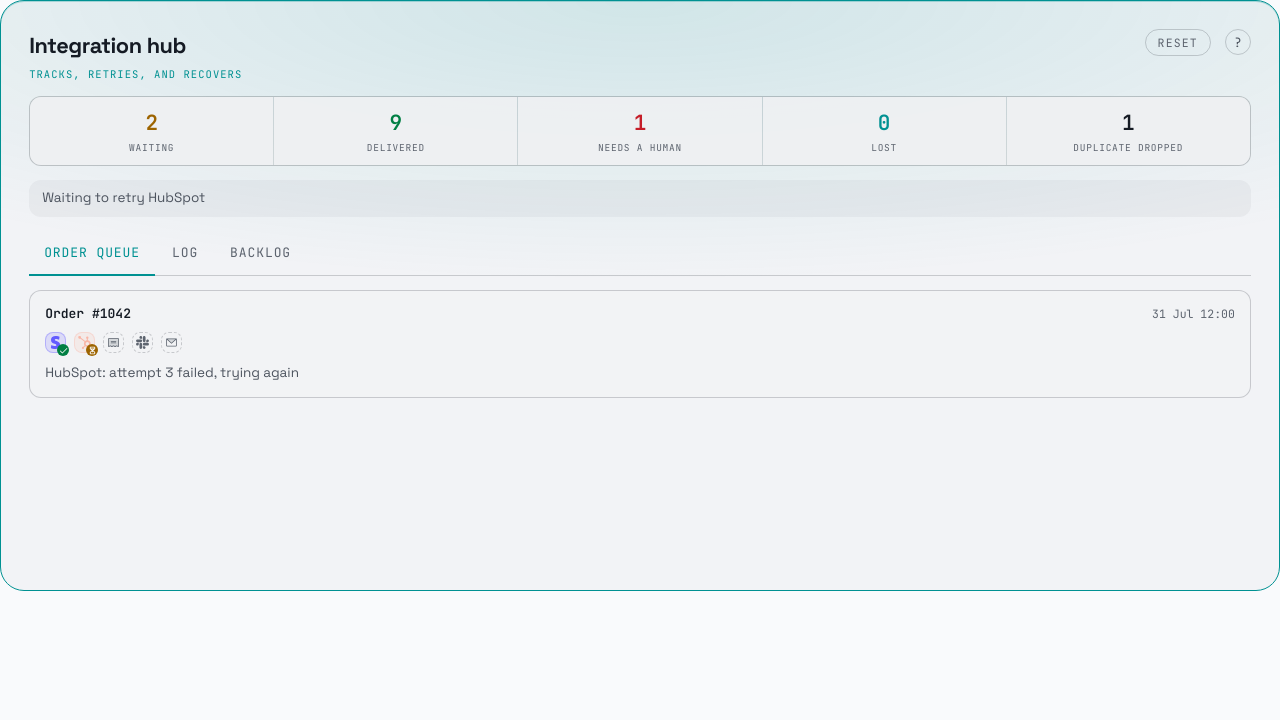
Scenario: Mediator › explains what it does when the question mark is used
What coordinates should you click on to do the following:
click the button with test id "hub-help-toggle"
I would click on:
 (1238, 42)
Its box is [1225, 29, 1251, 55].
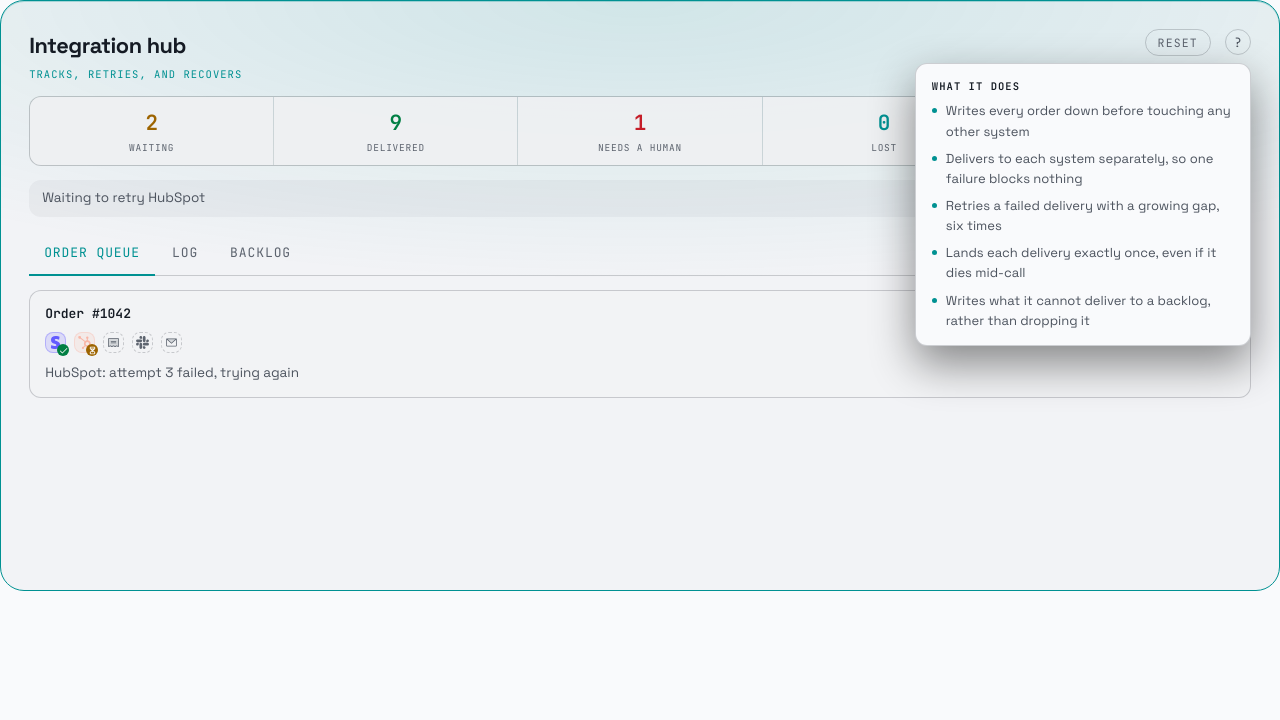
Expected: the list item "Lands each delivery exactly once, even if it dies mid-call" is shown, [932, 243, 1234, 284]
